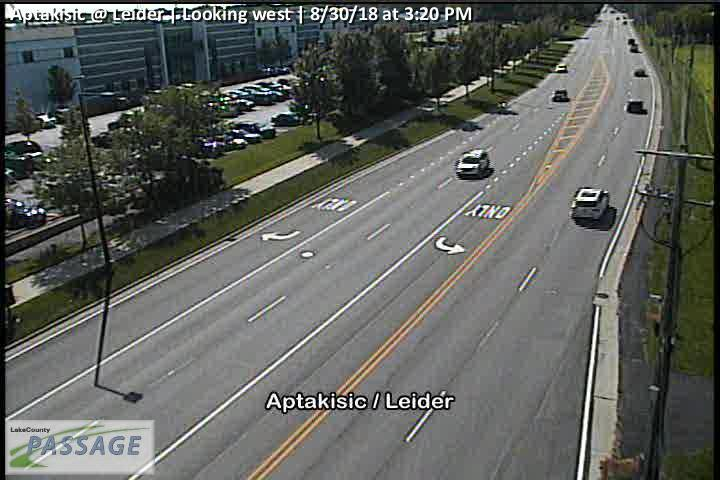SUV: (568, 188, 610, 221), (454, 149, 490, 178)
Sedan: (238, 121, 277, 139), (271, 110, 306, 124), (625, 98, 644, 114), (552, 89, 568, 102), (633, 69, 647, 78), (555, 64, 568, 72)
